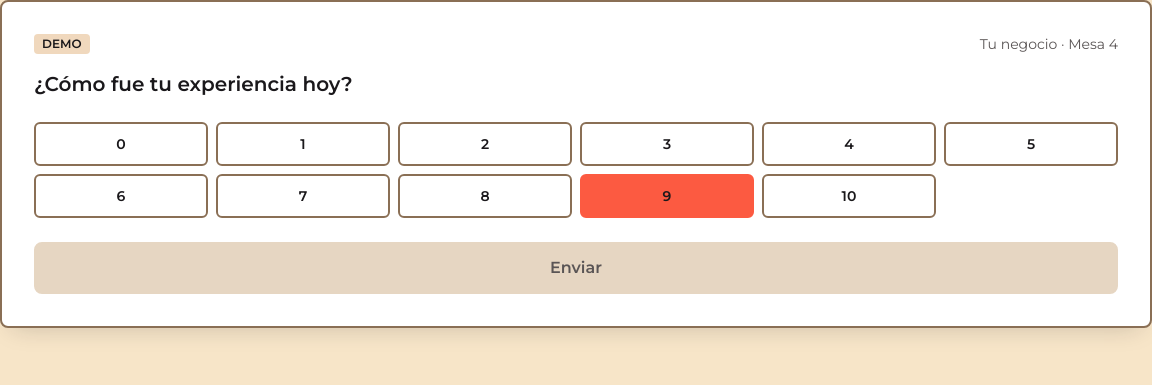
SurveyCard › keyboard re-selection after submit hides the status message
# Select via click and submit to show demo note
Click the radio button labelled "3". click: (667, 144)
box: [580, 122, 754, 166]
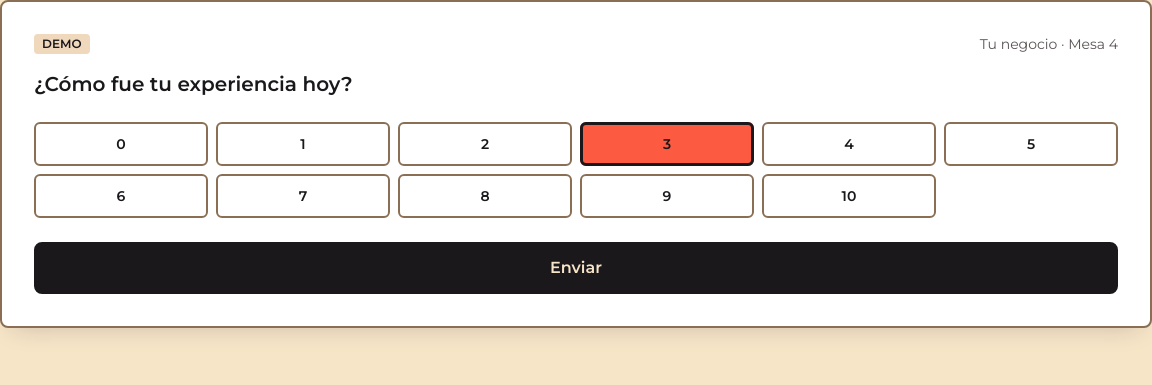
Click the button "Enviar". click: (576, 268)
box: [34, 242, 1118, 294]
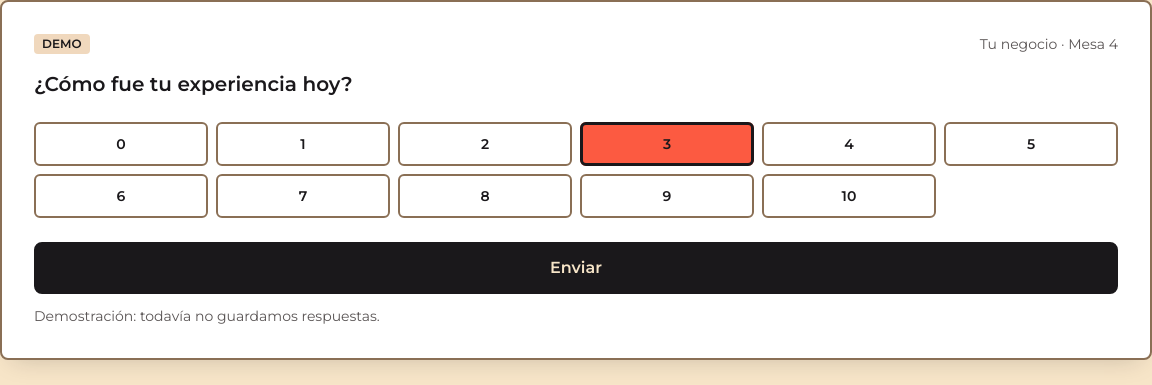
expect the message "Demostración: todavía no guardamos respuestas." is shown: met, box [34, 307, 380, 325]
Press Arrowright
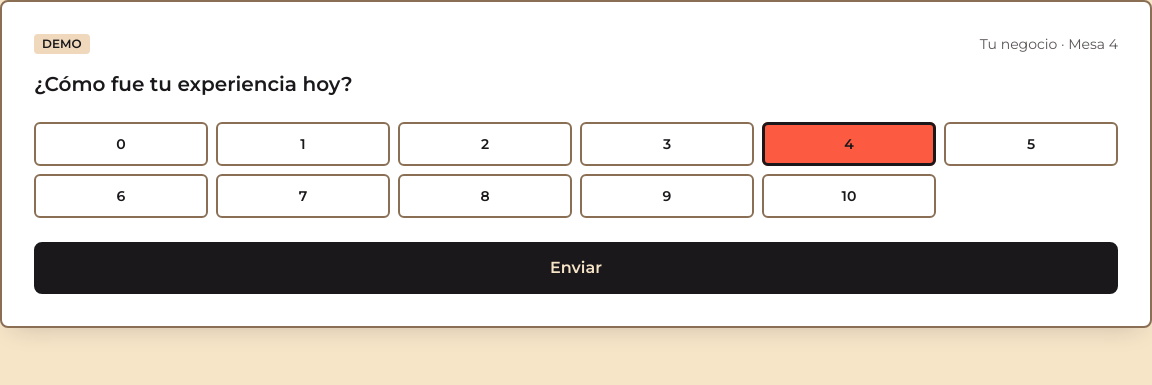
expect the message "Demostración: todavía no guardamos respuestas." is gone: met
